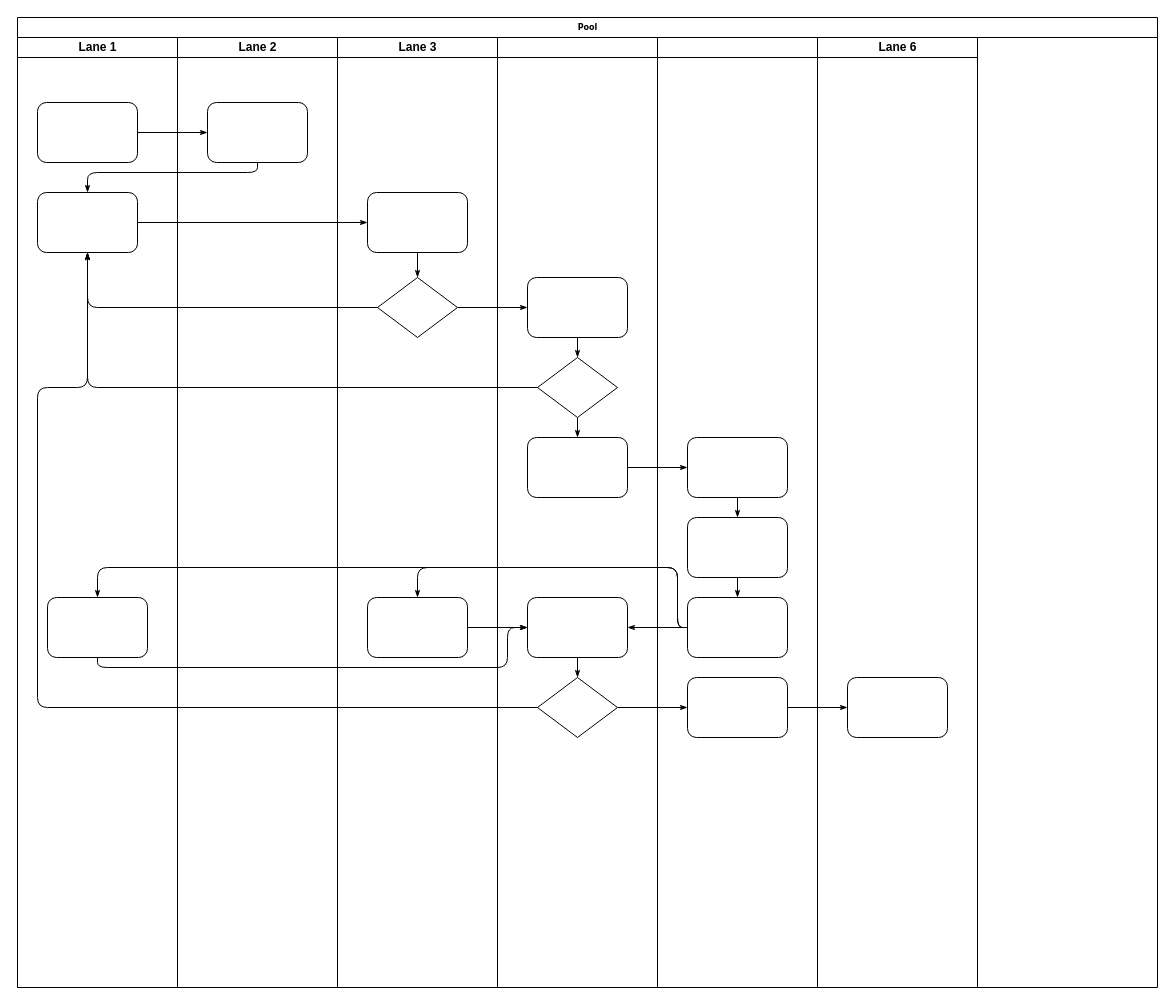
The diagram is 1175 pixels wide and 1005 high, and some of its shapes have lost their labels. Here are the shapes that lost their labels. From the top down, the box of each, then its label:
(496, 36, 658, 988): Lane 4
(656, 36, 818, 988): Lane 5
